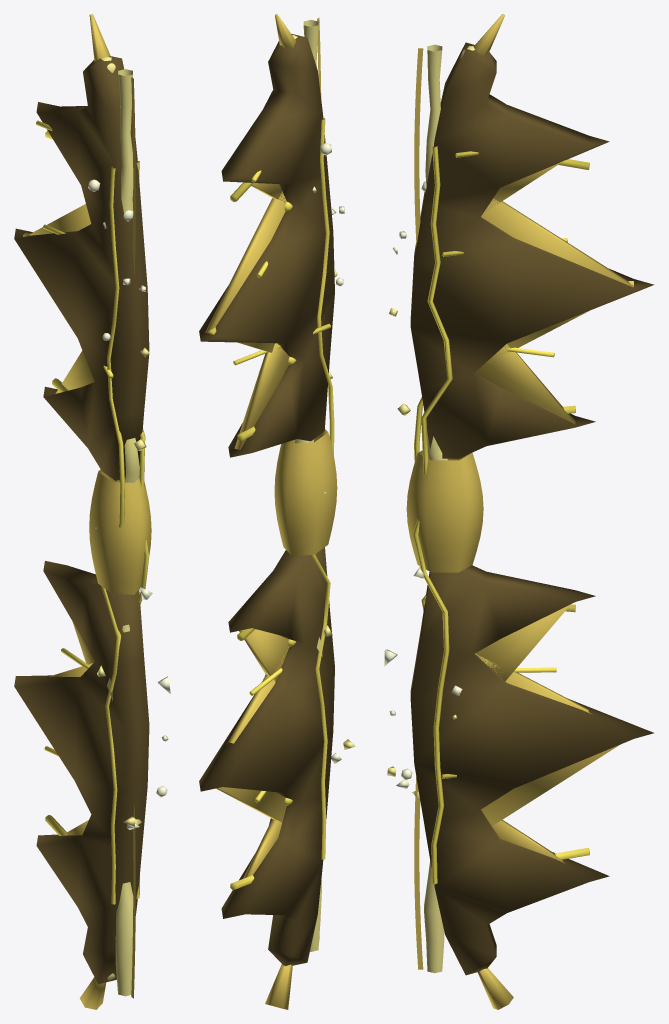
File: bow.fbx
3 renders of one model, left to right at view 1: azimuth 30°, elevation 25°; view 2: azimuth 150°, elevation 25°; view 3: azimuth 270°, elevation 25°, orthographic.
Parts seen in each view (by area): view 1: LowerLimb, UpperLimb, Grip, EnergyString, EnergyArc_1, Membrane_1_1, Membrane_1_0, EnergyArc_0, GoldSpine_1, GoldSpine_-1, TipHook_-1, TipHook_1; view 2: LowerLimb, UpperLimb, Grip, EnergyArc_1, Membrane_1_1, Membrane_-1_1, Membrane_1_0, Membrane_-1_0, EnergyString, TipHook_-1, Membrane_-1_2, TipHook_1; view 3: LowerLimb, UpperLimb, Grip, EnergyArc_0, Membrane_1_1, EnergyString, Membrane_-1_1, Membrane_1_0, Membrane_-1_0, GoldSpine_1, GoldSpine_-1, Membrane_-1_2 (+2 smaller).
Part boxes in pixels (box(x1,y1,x2,y2)): LowerLimb: box(14, 561, 149, 984); UpperLimb: box(14, 56, 149, 480); Grip: box(89, 469, 151, 594); EnergyString: box(107, 69, 139, 996); EnergyArc_1: box(101, 167, 124, 904); Membrane_1_1: box(29, 204, 91, 235); Membrane_1_0: box(55, 350, 94, 393); EnergyArc_0: box(136, 161, 149, 898); GoldSpine_1: box(131, 77, 135, 273); GoldSpine_-1: box(131, 804, 135, 998); TipHook_-1: box(79, 977, 106, 1009); TipHook_1: box(89, 14, 110, 61); LowerLimb: box(199, 547, 334, 965); UpperLimb: box(199, 34, 334, 457); Grip: box(274, 429, 337, 555); EnergyArc_1: box(311, 118, 334, 859); Membrane_1_1: box(205, 191, 286, 352); Membrane_-1_1: box(216, 647, 288, 822); Membrane_1_0: box(234, 343, 289, 449); Membrane_-1_0: box(239, 629, 289, 681); EnergyString: box(295, 20, 322, 951); TipHook_-1: box(265, 964, 292, 1009); Membrane_-1_2: box(243, 819, 281, 878); TipHook_1: box(275, 14, 296, 48); LowerLimb: box(410, 565, 653, 975); UpperLimb: box(410, 42, 654, 458); Grip: box(406, 450, 483, 572); EnergyArc_0: box(413, 145, 452, 884); Membrane_1_1: box(481, 198, 633, 362); EnergyString: box(423, 44, 448, 973); Membrane_-1_1: box(475, 653, 619, 825); Membrane_1_0: box(475, 344, 575, 424); Membrane_-1_0: box(475, 604, 570, 681); GoldSpine_1: box(414, 48, 423, 245); GoldSpine_-1: box(414, 777, 423, 969); Membrane_-1_2: box(486, 816, 565, 863).
Bounding box in the file's own units: 18.69 × 319 × 78.71.
